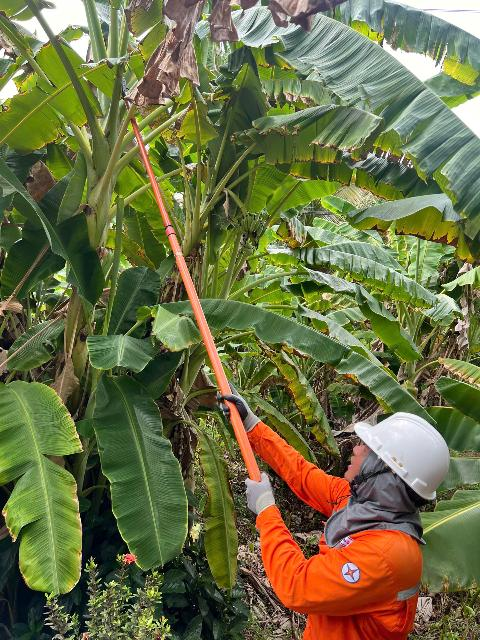gloves: (209, 378, 266, 438), (240, 474, 284, 518)
helmet: (343, 406, 456, 504)
